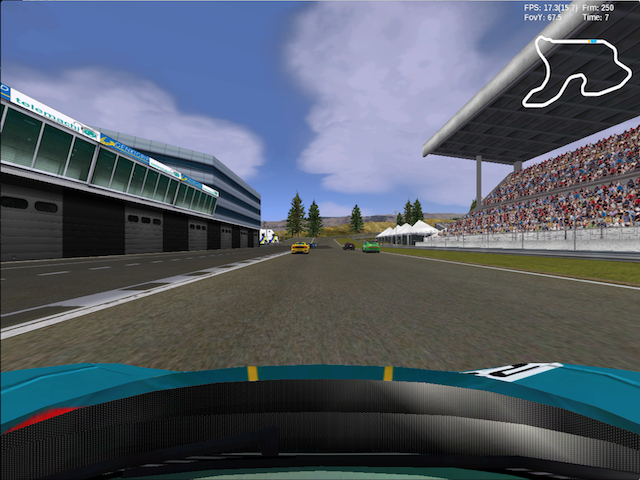Boxer96: (361, 242, 381, 253)
Cavallo360: (290, 242, 310, 255)
Spirit300: (343, 243, 356, 251)
